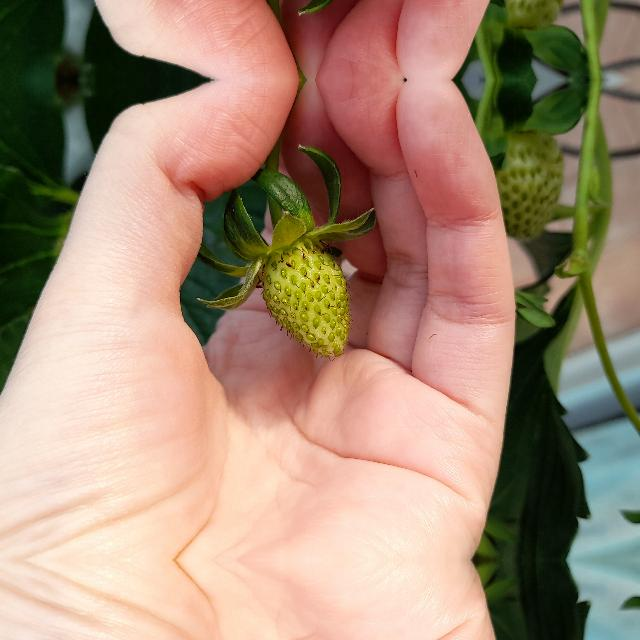Health_25: (262, 247, 350, 357)
